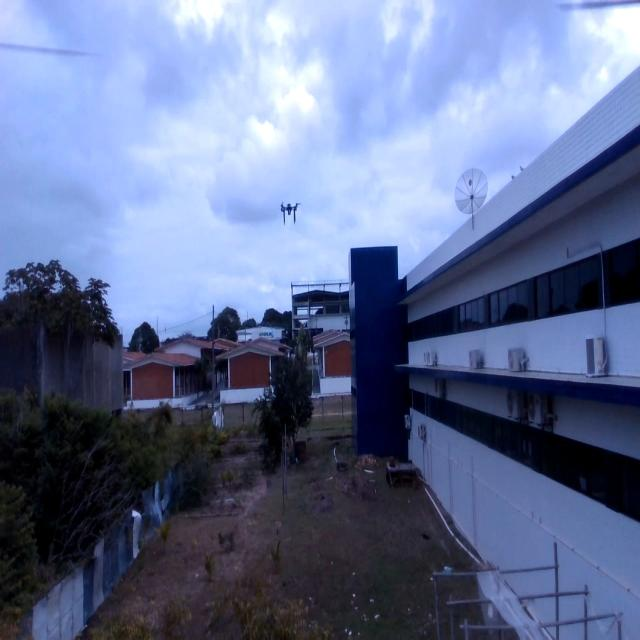-uav-: (276, 195, 306, 232)
